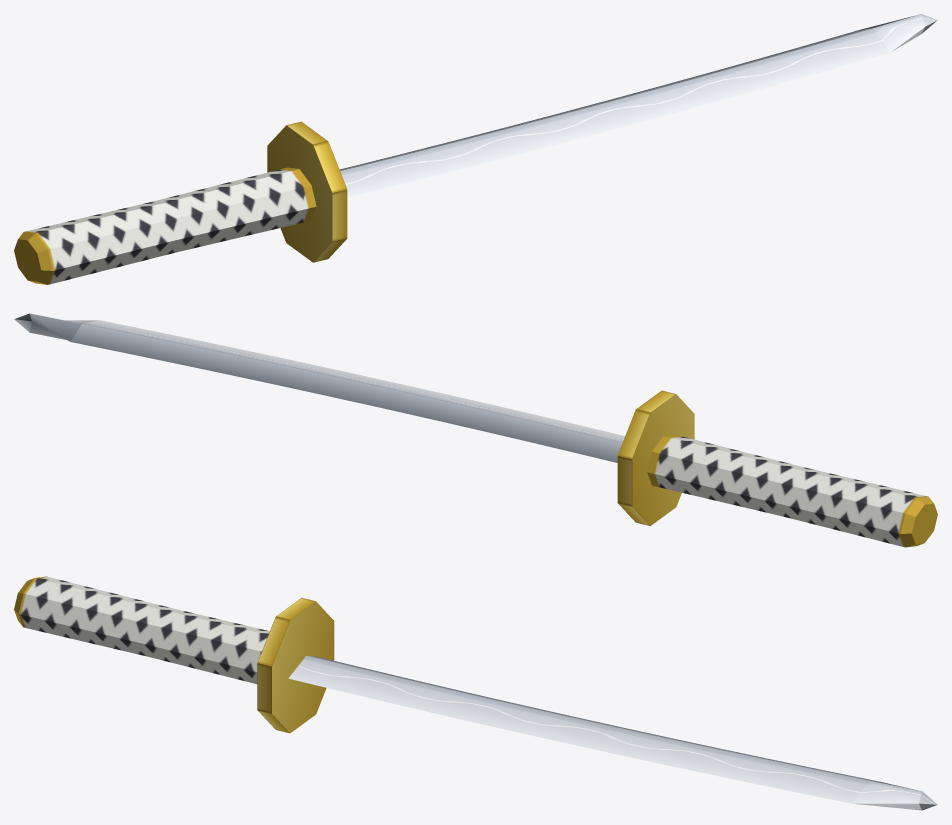
File: acc_Sabre_Bouche.fbx
The picture shows the model from 3 angles, top to bottom: view 1: azimuth 30°, elevation 25°; view 2: azimuth 150°, elevation 25°; view 3: azimuth 330°, elevation 25°; orthographic projection. The views are drawn at different scales.
Parts seen in each view (by area): view 1: Acc_Sabre_Bouche; view 2: Acc_Sabre_Bouche; view 3: Acc_Sabre_Bouche.
Boxes of the visible parts, box(x1,y1,x2,y2) form: Acc_Sabre_Bouche: box(14, 14, 937, 284); Acc_Sabre_Bouche: box(14, 313, 937, 547); Acc_Sabre_Bouche: box(14, 576, 937, 810).
Bounding box in the file's own units: 342 × 41.39 × 41.39.
Materials: 1 (1 with a texture image).
